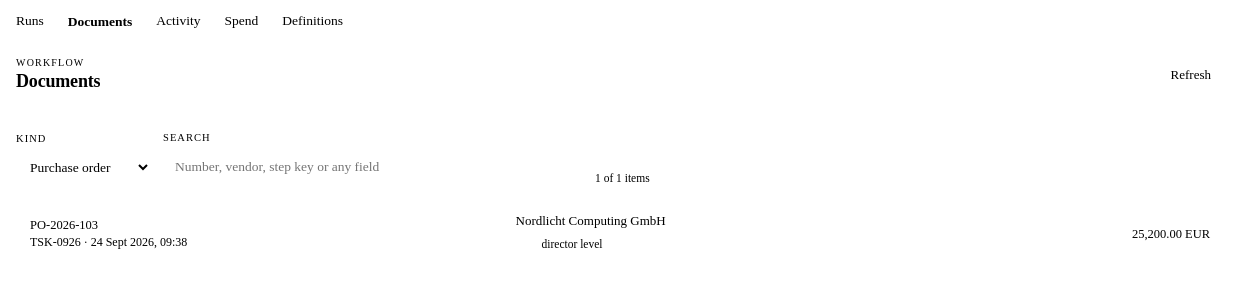
Test: Documents screen › switches the kind
This screenshot has width=1241, height=283.
Expected: the button "PO-2026-103" is shown, [16,202,1224,266]
Select "Invoice" in the dropdown labelled "Kind". click: (84, 168)
box: [16,151,151,184]
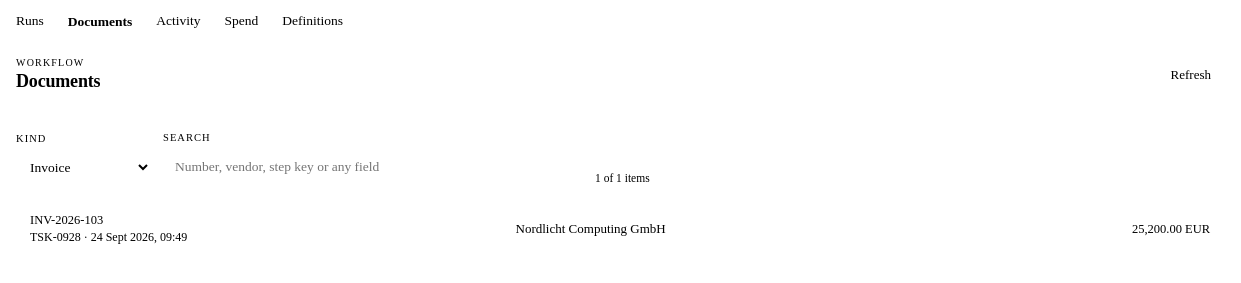
Expected: the button "INV-2026-103" is shown, [16,202,1224,256]
